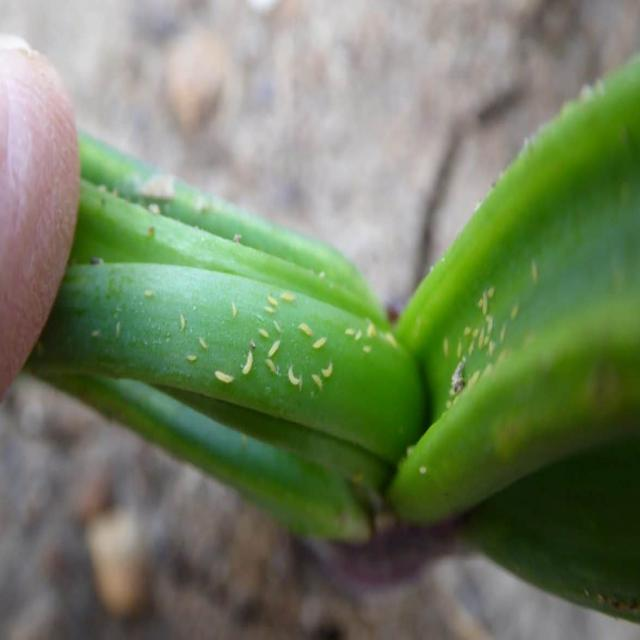Thrip-Larva-: (211, 368, 240, 388), (263, 334, 285, 359), (307, 369, 327, 395), (260, 354, 280, 378), (182, 347, 202, 368), (241, 349, 255, 378), (197, 332, 215, 352), (142, 283, 158, 303), (260, 301, 280, 317), (453, 334, 465, 359), (481, 285, 490, 318), (286, 366, 300, 387), (297, 320, 314, 337), (177, 309, 189, 331), (228, 294, 238, 319), (264, 291, 280, 306), (476, 326, 486, 350), (254, 325, 271, 339), (278, 290, 296, 303), (272, 317, 286, 333), (311, 336, 327, 350), (322, 362, 333, 377)
